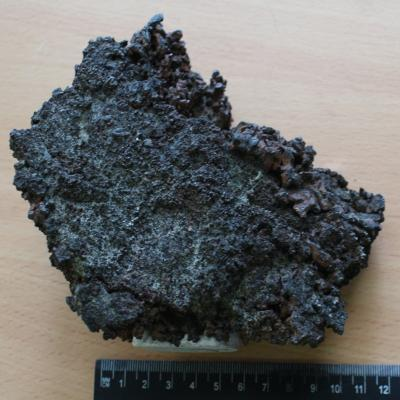mineralogy: (8, 14, 386, 353)
